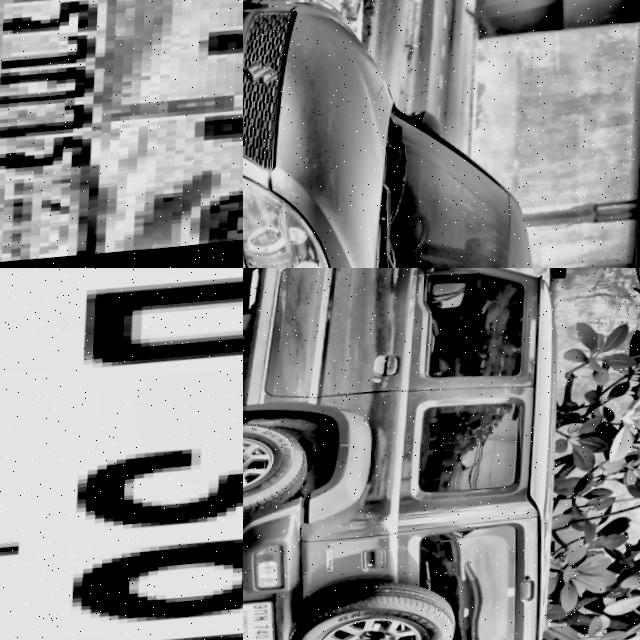license-plate: (0, 268, 243, 640), (0, 0, 243, 268), (243, 604, 277, 640)
